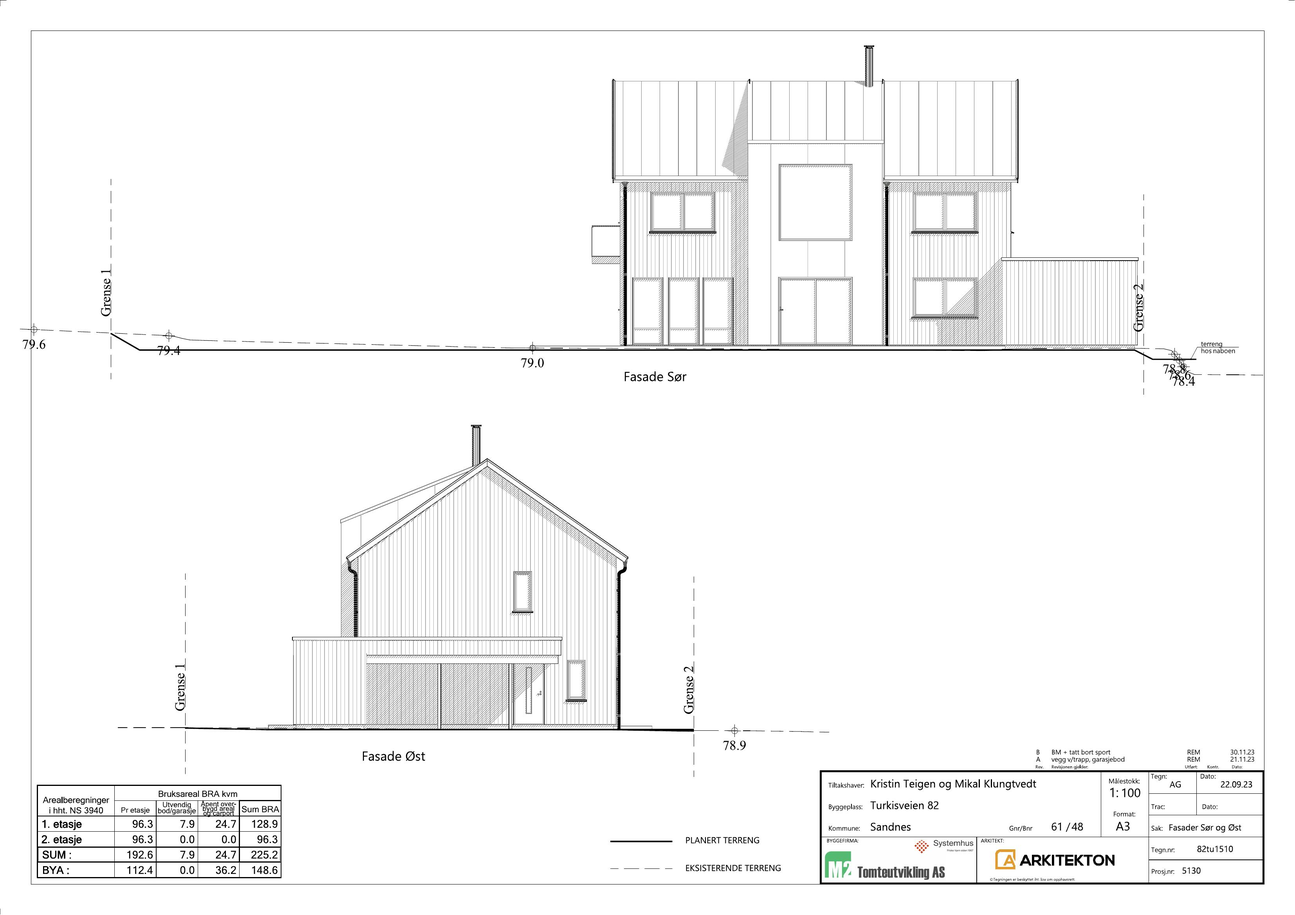fasade: (586, 41, 1153, 367), (264, 424, 658, 739)
